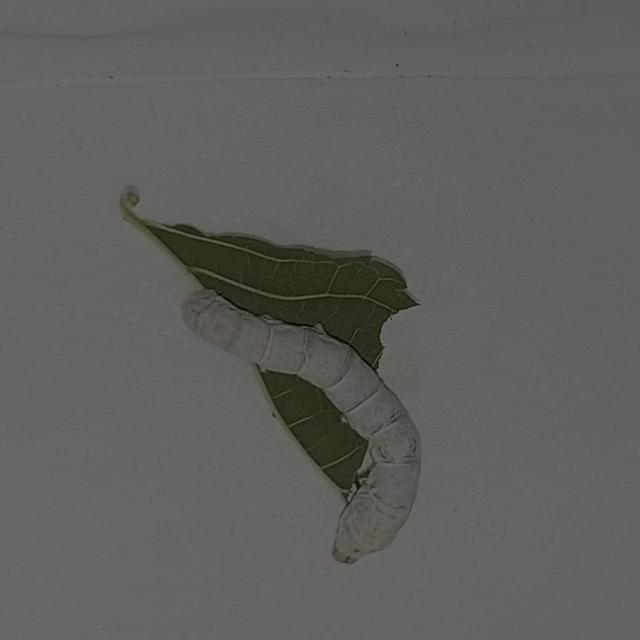Healthy: (157, 272, 468, 582)
